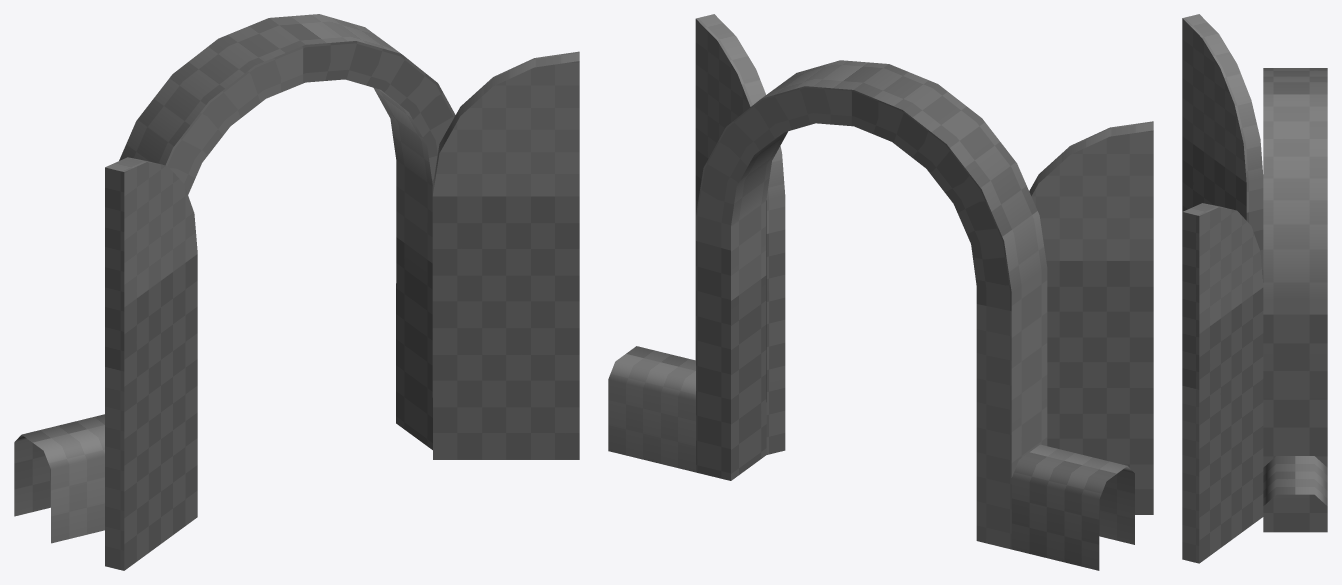
File: Door1_X4_Y4_Z2.fbx
3 renders of one model, left to right at view 1: azimuth 30°, elevation 25°; view 2: azimuth 150°, elevation 25°; view 3: azimuth 270°, elevation 25°, orthographic. The views are drawn at different scales.
Visible parts, largest first — view 1: Door1_X4_Y4_Z2_LOD_0; view 2: Door1_X4_Y4_Z2_LOD_0; view 3: Door1_X4_Y4_Z2_LOD_0.
Boxes of the visible parts, x1,y1,x2,y2 form: Door1_X4_Y4_Z2_LOD_0: [14, 14, 579, 570]; Door1_X4_Y4_Z2_LOD_0: [608, 14, 1153, 570]; Door1_X4_Y4_Z2_LOD_0: [1182, 14, 1327, 563].
Bounding box in the file's own units: 400 × 328 × 113.
